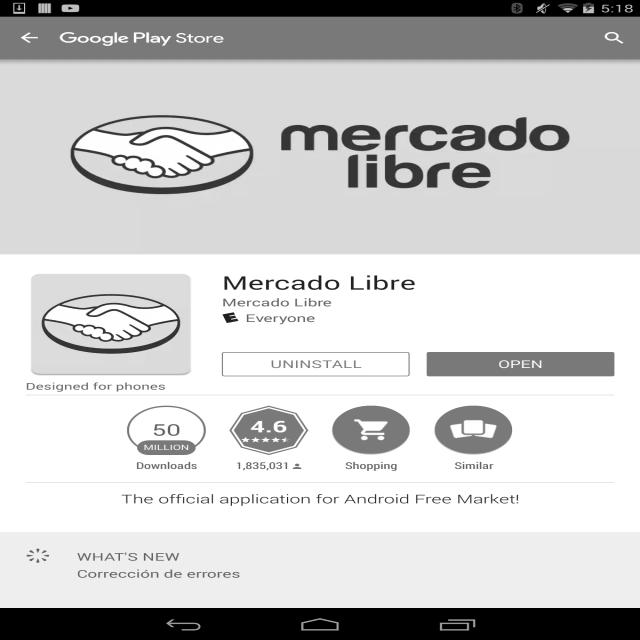Button: (222, 406, 316, 472), (324, 406, 418, 472), (426, 406, 520, 472), (222, 352, 409, 376), (427, 352, 614, 376)
ImageButton: (0, 17, 60, 59)
ImageView: (0, 59, 640, 254), (26, 270, 196, 377), (332, 406, 411, 455), (434, 406, 513, 455), (60, 30, 224, 46), (26, 548, 51, 564), (222, 312, 239, 323), (293, 464, 301, 469)
TextView: (0, 490, 640, 519), (77, 566, 614, 593), (222, 270, 614, 295), (77, 548, 614, 566), (25, 380, 166, 392), (589, 22, 640, 54), (324, 455, 418, 472), (426, 455, 520, 472), (120, 455, 213, 472), (222, 295, 332, 309), (245, 311, 316, 325), (236, 455, 290, 472), (250, 415, 288, 437), (152, 420, 181, 440), (142, 443, 192, 452)
